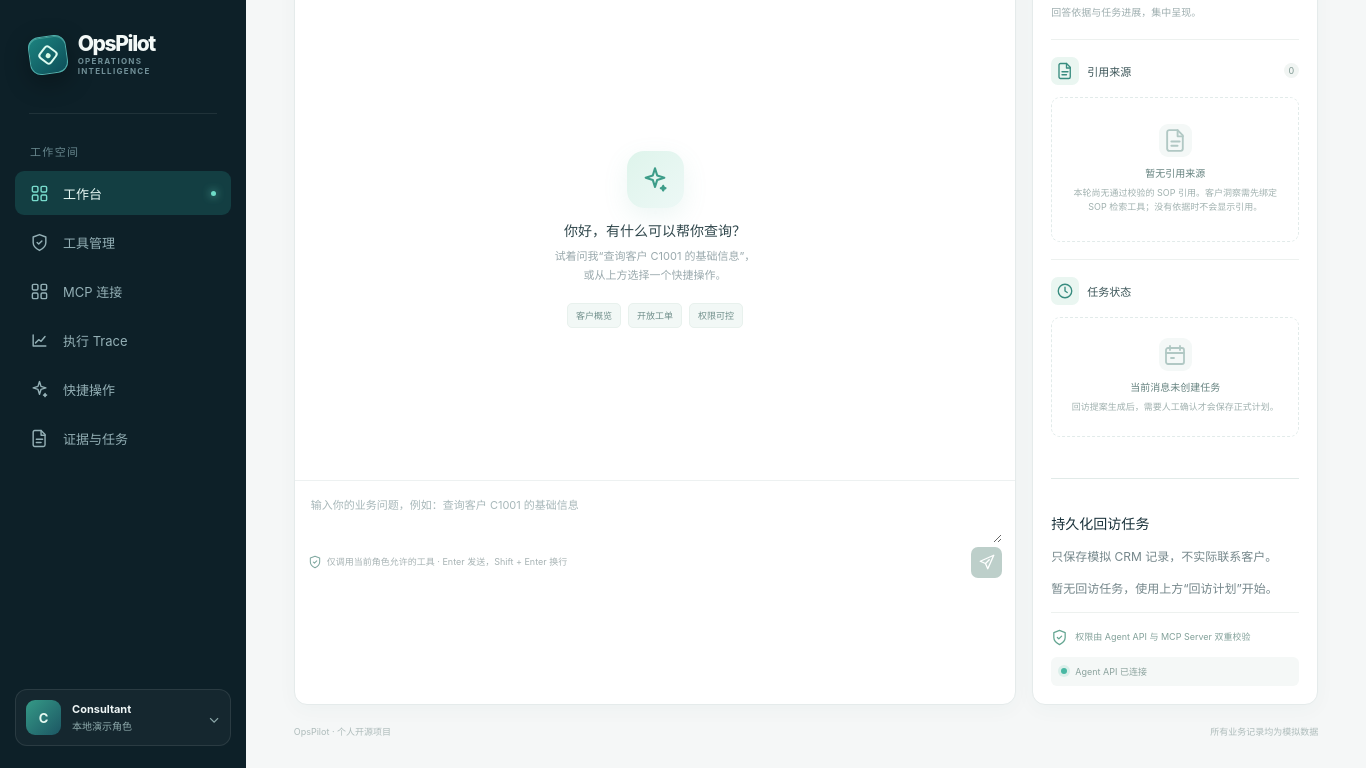
Test: OpsPilot current frontend slice › shows server errors and request id without inventing a business result
(page scrolled)
Type "查询客户 C1001 的基础信息" into the text box named "输入业务问题" at [655, 518], box [308,494,1002,543]
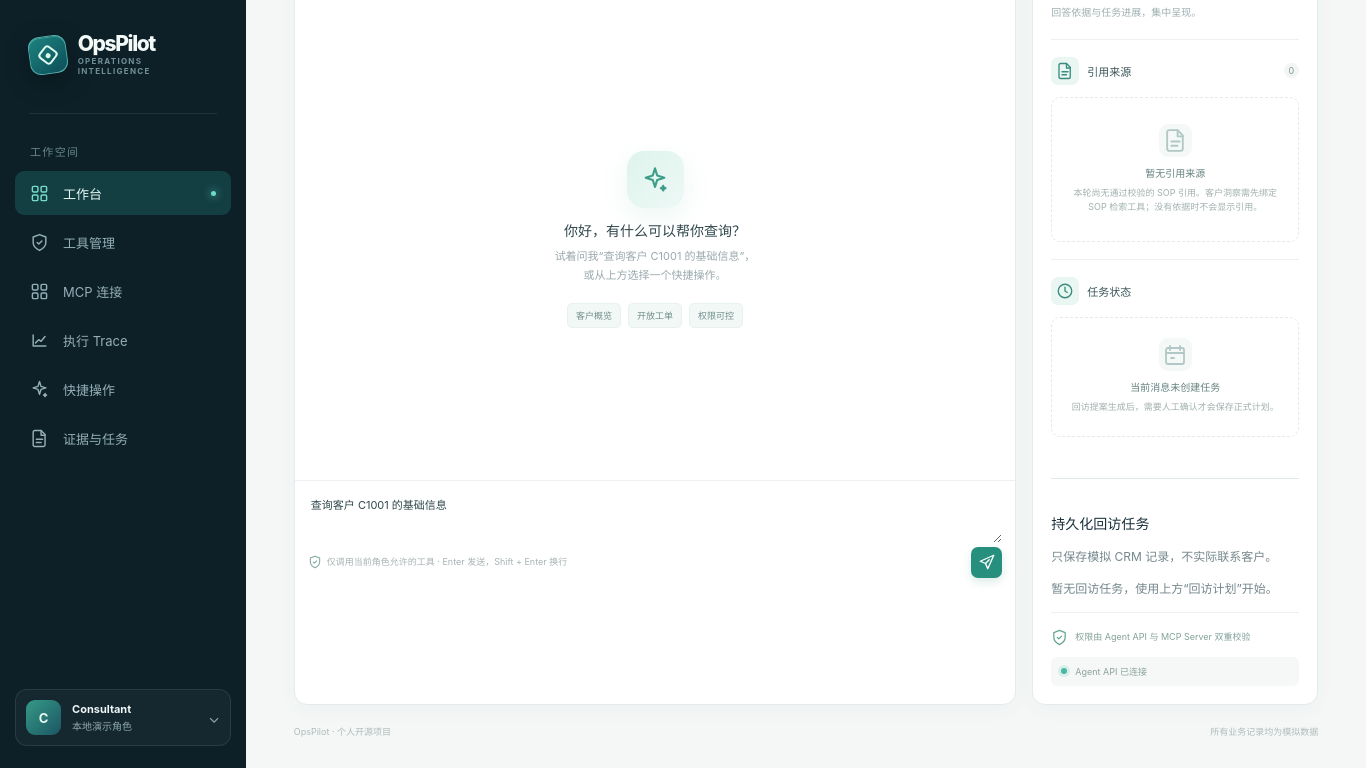
Click the button named "发送消息" at [987, 562], box [971,547,1002,578]
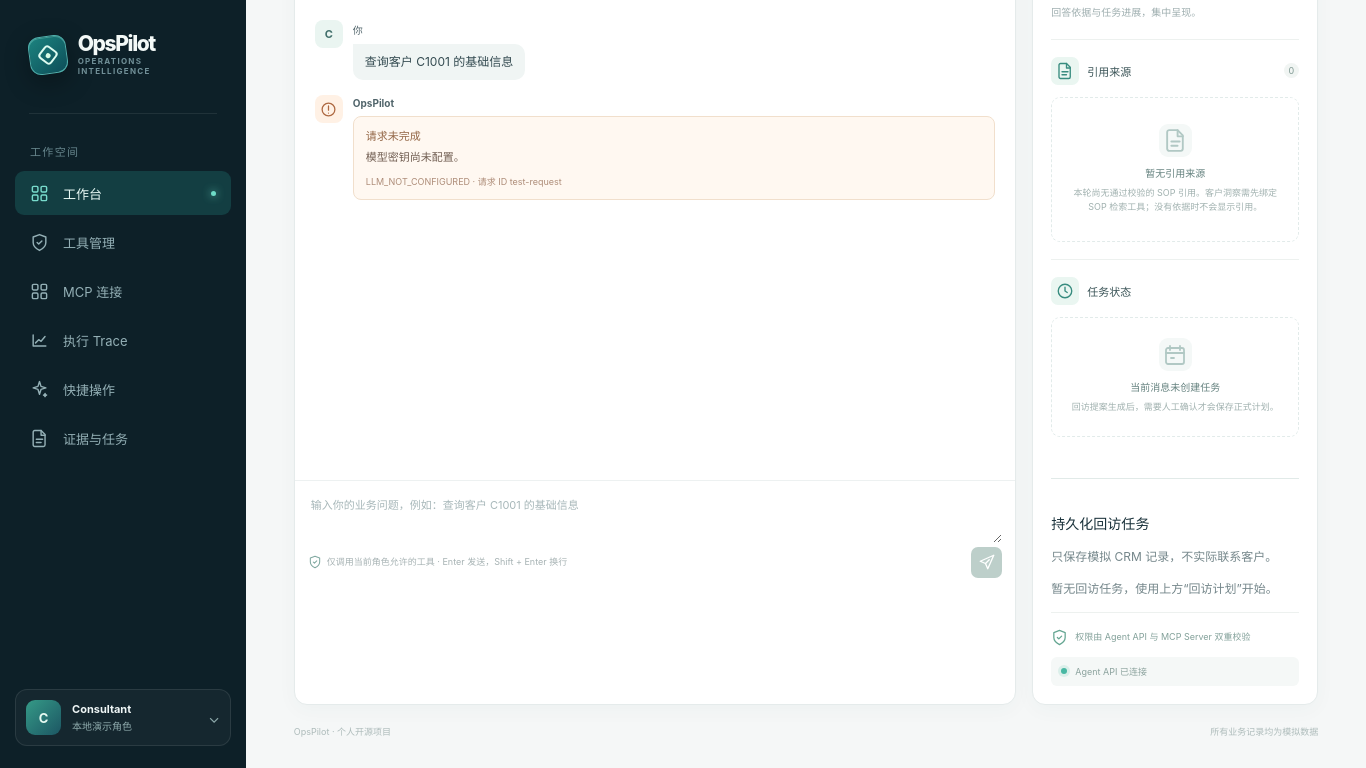
Now the text "模型密钥尚未配置。" is shown, box [366,150,465,164]
Now the text "LLM_NOT_CONFIGURED · 请求 ID test-request" is shown, box [366,176,562,187]
